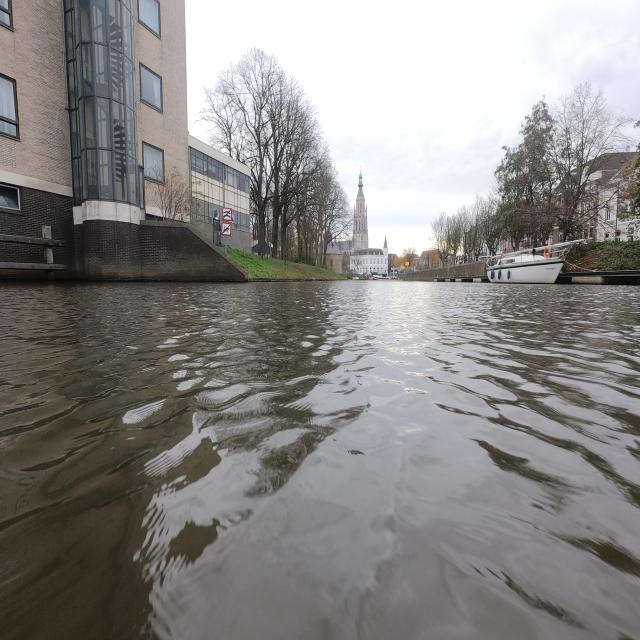dock: (0, 280, 640, 640), (556, 270, 640, 285), (248, 277, 316, 282)
grass: (227, 248, 348, 280)
sky: (186, 0, 640, 254)
wall: (54, 220, 248, 281)
water: (0, 279, 640, 640)
